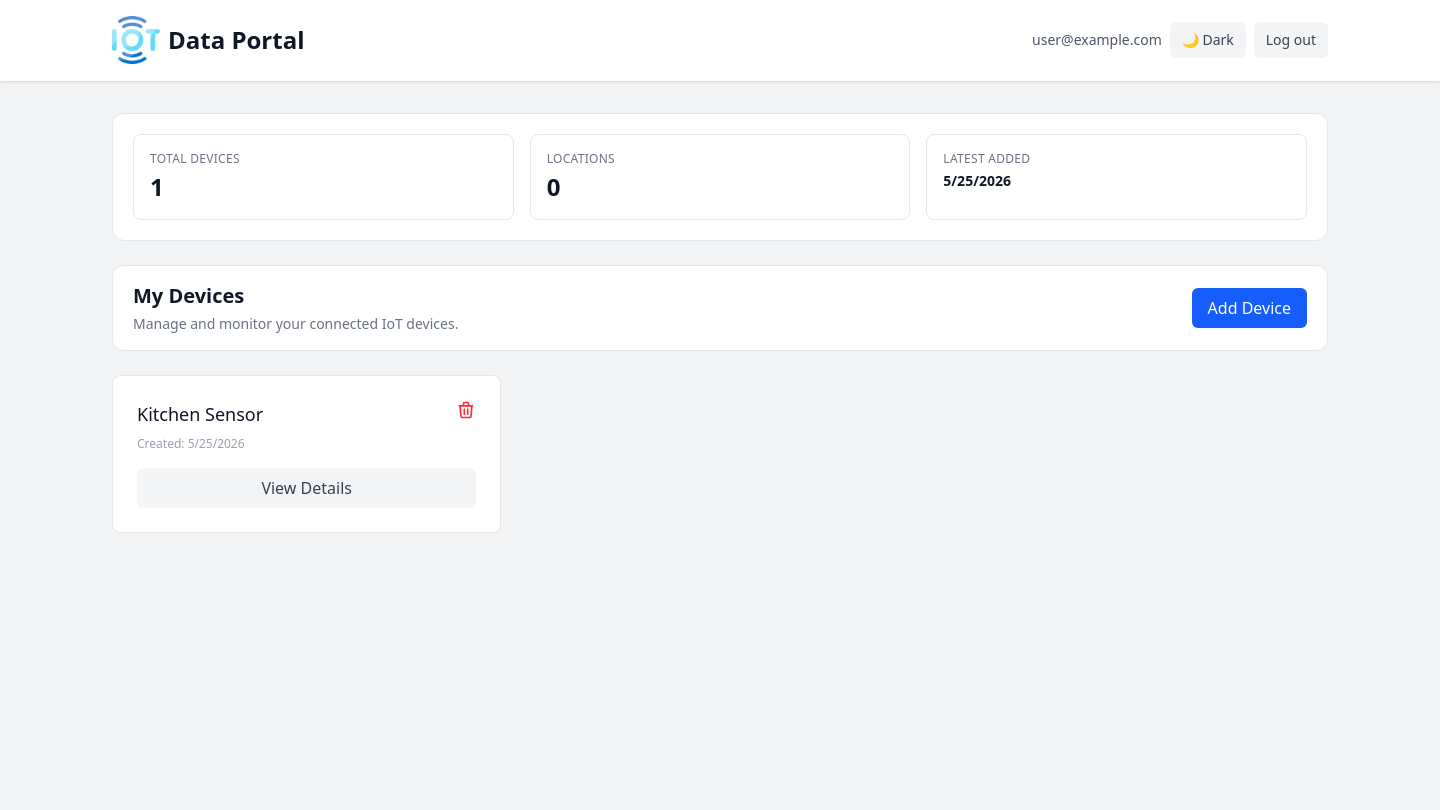
DashboardPage › deletes a device after confirmation
The width and height of the screenshot is (1440, 810).
Expected: the heading "Kitchen Sensor" is shown, [137,400,263,428]
Click the button titled "Delete device": (466, 410) [456,400,476,420]
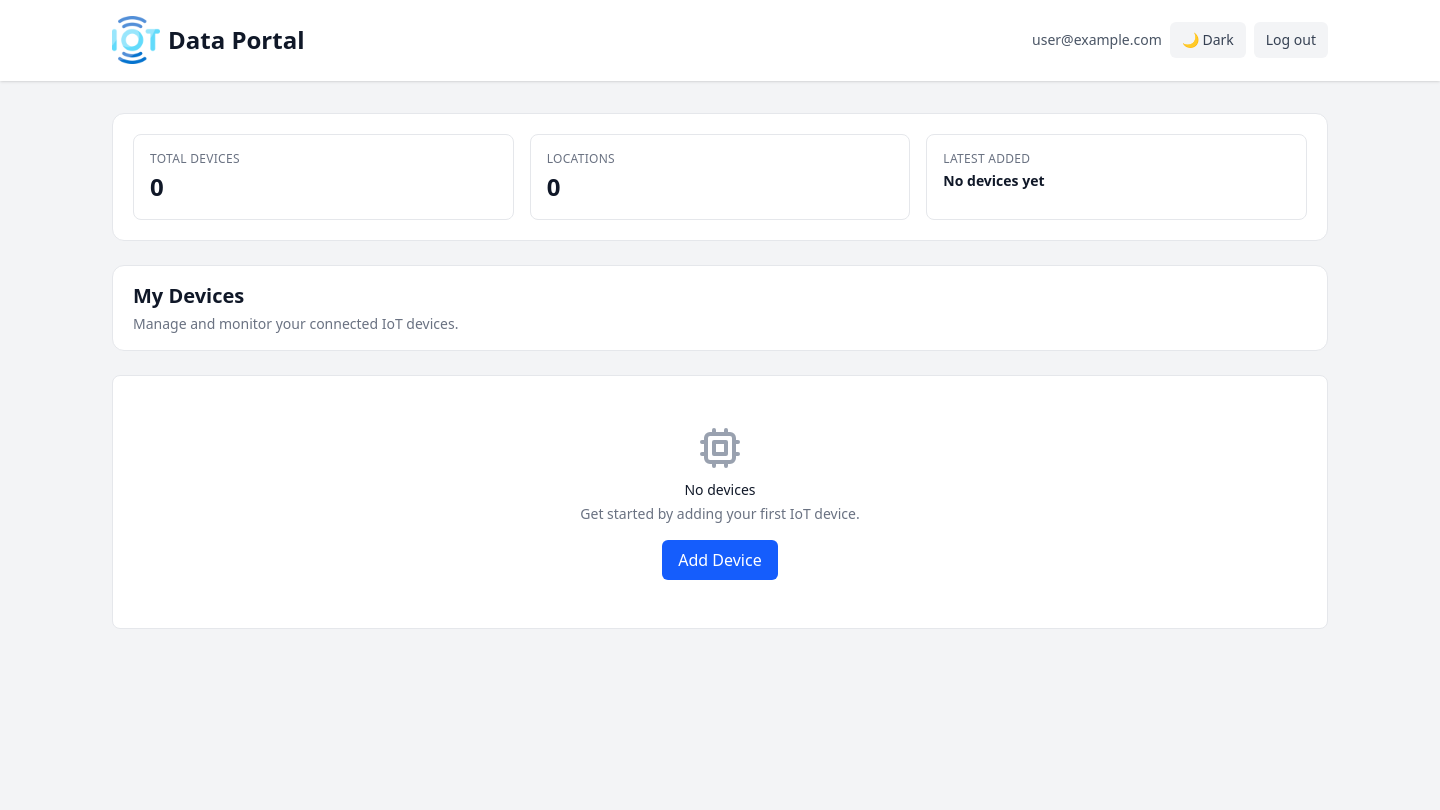
Expected: the heading "Kitchen Sensor" is gone
